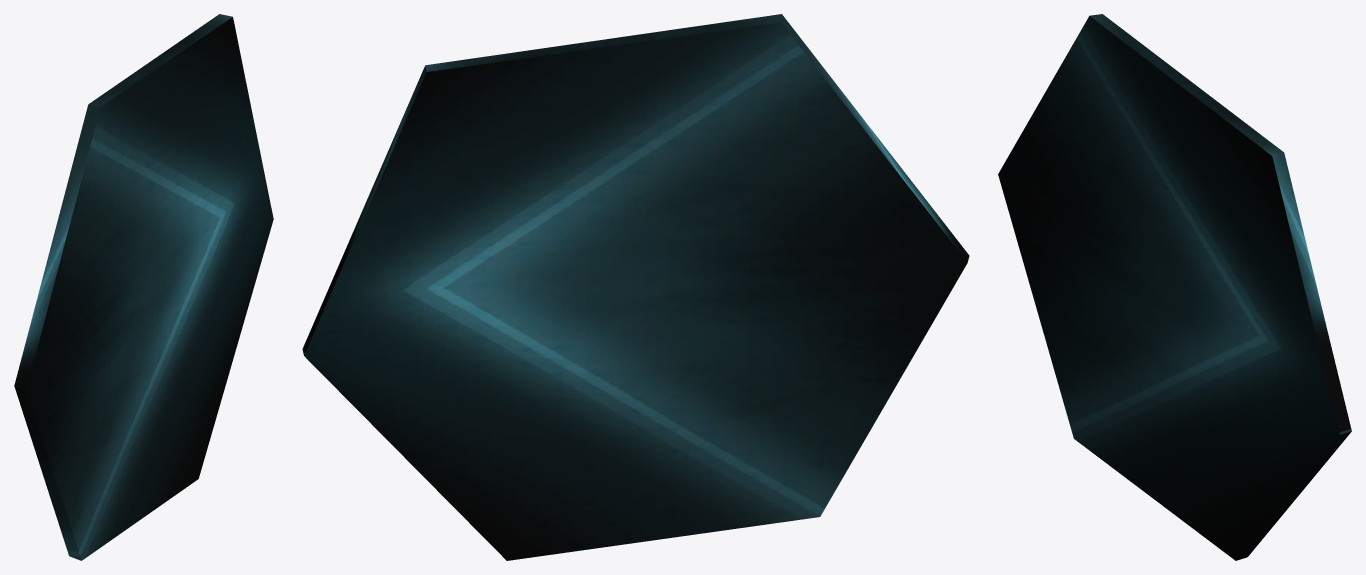
File: hexagon_4_Collection_2.fbx
3 views of the same model, side by side, from view 1: azimuth 30°, elevation 25°; view 2: azimuth 150°, elevation 25°; view 3: azimuth 270°, elevation 25° (orthographic). The views are drawn at different scales.
Visible parts, largest first — view 1: GD_mesh.002; view 2: GD_mesh.002; view 3: GD_mesh.002.
Boxes of the visible parts, <box> form: GD_mesh.002: <box>14,14,273,560</box>; GD_mesh.002: <box>302,14,969,560</box>; GD_mesh.002: <box>998,14,1351,560</box>.
Bounding box in the file's own units: 147 × 107 × 155.
Materials: 1 (1 with a texture image).
